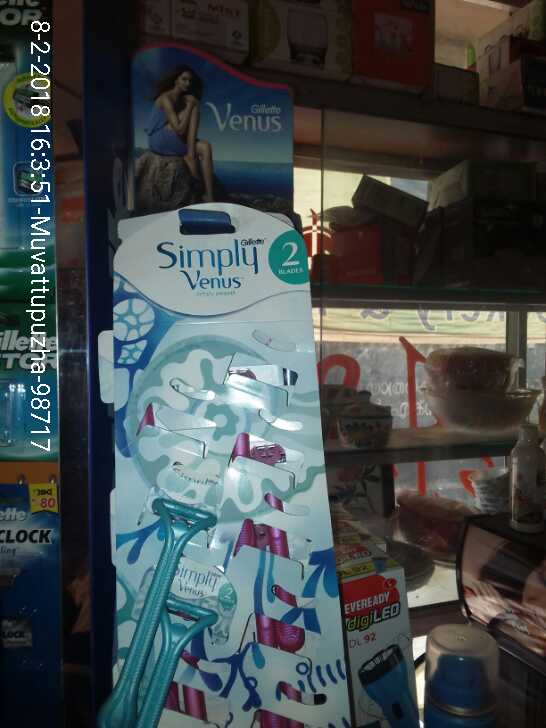reject: (168, 351, 226, 423)
